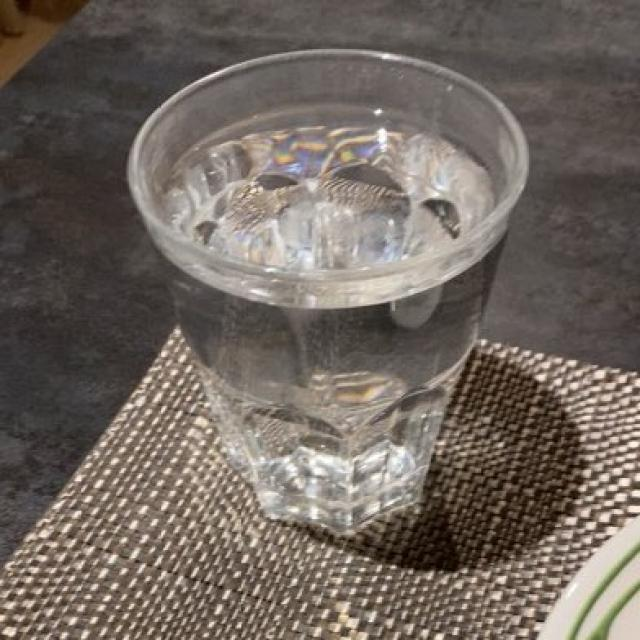water: (143, 118, 489, 525)
